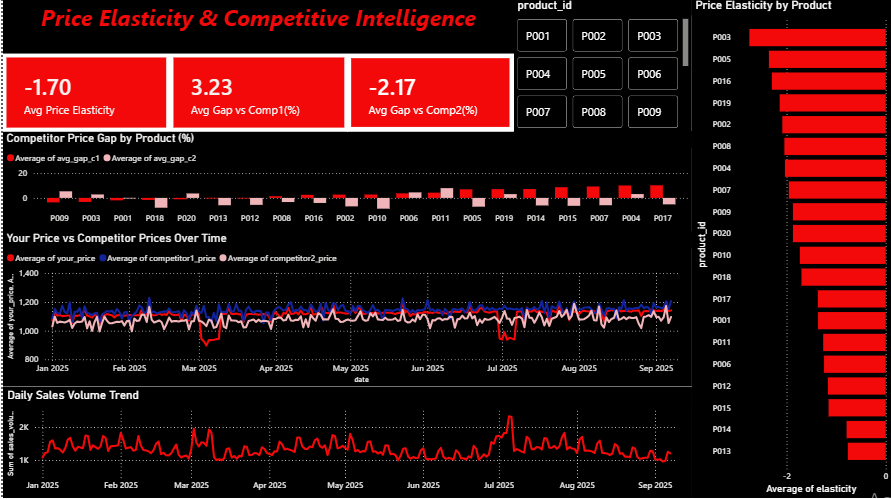

Layout of this report page (visuals, bound fields, positions):
{"tool":"powerbi","page":{"name":"Page 1","canvas":[1280,720],"ordinal":0},"visuals":[{"type":"advancedSlicerVisual","fields":{"Values":["competitor_summary.product_id"]},"box":[736,0,256,192],"z":0},{"type":"clusteredBarChart","title":"Price Elasticity by Product","fields":{"Category":["elasticity_results.product_id"],"Y":["Avg(elasticity_results.elasticity)"]},"box":[992,0,288,720],"z":1000},{"type":"lineChart","title":"Daily Sales Volume Trend","fields":{"Y":["Sum(clean_data.sales_volume)"],"Category":["clean_data.date"]},"box":[0,560,992,160],"z":2000},{"type":"lineChart","title":"Your Price vs Competitor Prices Over Time","fields":{"Category":["clean_data.date"],"Y":["Avg(clean_data.your_price)","Avg(clean_data.competitor1_price)","Avg(clean_data.competitor2_price)"]},"box":[0,336,992,224],"z":3000},{"type":"clusteredColumnChart","title":"Competitor Price Gap by Product (%)","fields":{"Category":["competitor_summary.product_id"],"Y":["Avg(competitor_summary.avg_gap_c1)","Avg(competitor_summary.avg_gap_c2)"]},"box":[0,192,992,144],"z":4000},{"type":"cardVisual","fields":{"Data":["Avg(elasticity_results.elasticity)"]},"box":[0,80,240,112],"z":5000},{"type":"cardVisual","fields":{"Data":["Avg(competitor_summary.avg_gap_c1)"]},"box":[240,80,256,112],"z":6000},{"type":"cardVisual","fields":{"Data":["Avg(competitor_summary.avg_gap_c2)"]},"box":[496,80,240,112],"z":7000},{"type":"textbox","box":[0,0,736,80],"z":7001}]}

Visuals, with their boxes in screenshot pixels (x1, y1, x2, y2), scaled from the page's 1280x720 canvas onto the 891x499 screenshot:
advancedSlicerVisual - competitor_summary.product_id: pyautogui.locateOnScreen(512, 0, 691, 133)
"Price Elasticity by Product" clusteredBarChart: pyautogui.locateOnScreen(691, 0, 890, 498)
"Daily Sales Volume Trend" lineChart: pyautogui.locateOnScreen(0, 388, 691, 498)
"Your Price vs Competitor Prices Over Time" lineChart: pyautogui.locateOnScreen(0, 233, 691, 388)
"Competitor Price Gap by Product (%)" clusteredColumnChart: pyautogui.locateOnScreen(0, 133, 691, 233)
cardVisual - Avg(elasticity_results.elasticity): pyautogui.locateOnScreen(0, 55, 167, 133)
cardVisual - Avg(competitor_summary.avg_gap_c1): pyautogui.locateOnScreen(167, 55, 345, 133)
cardVisual - Avg(competitor_summary.avg_gap_c2): pyautogui.locateOnScreen(345, 55, 512, 133)
textbox: pyautogui.locateOnScreen(0, 0, 512, 55)
